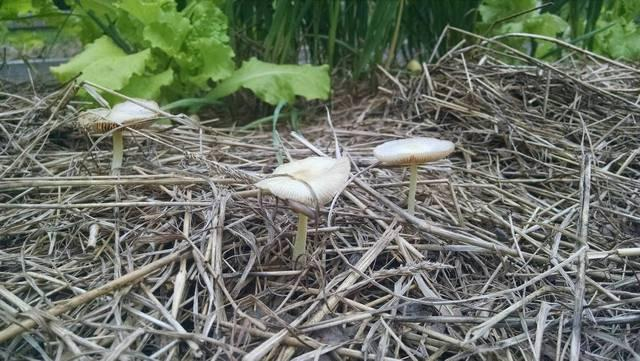edible_mushroom: (253, 154, 351, 267), (372, 135, 455, 216)
